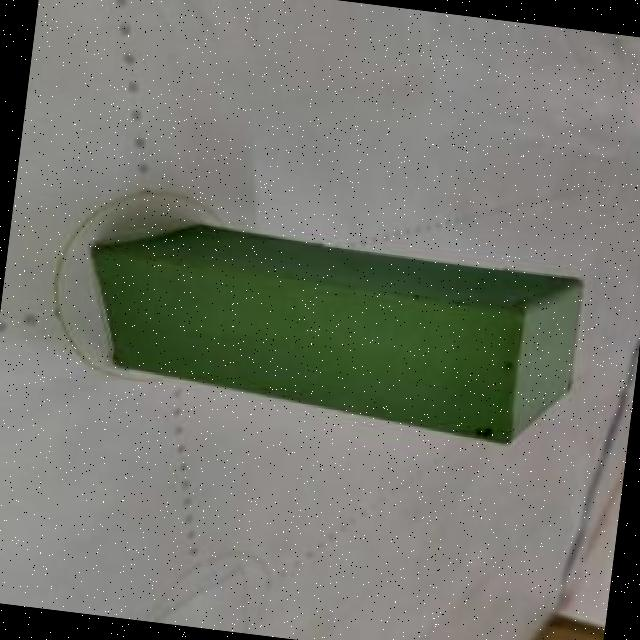greenbox: (71, 210, 590, 453)
